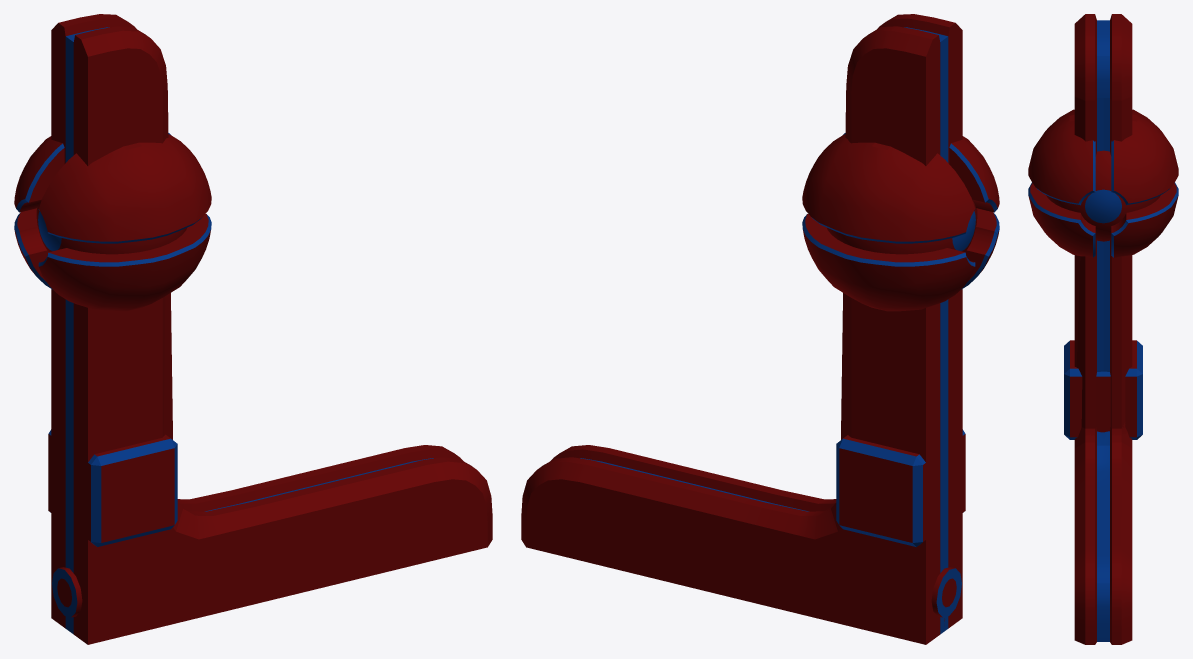
The model's file is LevelOrnaments.fbx.
The picture shows the model from 3 angles, left to right: view 1: azimuth 30°, elevation 25°; view 2: azimuth 150°, elevation 25°; view 3: azimuth 270°, elevation 25°; orthographic projection. The views are drawn at different scales.
Visible parts, largest first — view 1: L_Ornament, L_Ornament_Tall, Globe_Ornament, Box_Ornament, CornerOrnament; view 2: L_Ornament_Tall, L_Ornament, Globe_Ornament, Box_Ornament, CornerOrnament; view 3: L_Ornament_Tall, Globe_Ornament, L_Ornament, Box_Ornament.
Part boxes in pixels (box(x1,y1,x2,y2)): L_Ornament: box(51, 289, 492, 644); L_Ornament_Tall: box(51, 14, 492, 644); Globe_Ornament: box(14, 133, 211, 311); Box_Ornament: box(48, 429, 177, 546); CornerOrnament: box(52, 567, 82, 617); L_Ornament_Tall: box(521, 14, 962, 644); L_Ornament: box(521, 289, 962, 644); Globe_Ornament: box(802, 133, 999, 311); Box_Ornament: box(836, 429, 965, 546); CornerOrnament: box(931, 551, 961, 621); L_Ornament_Tall: box(1074, 14, 1132, 644); Globe_Ornament: box(1028, 109, 1178, 257); L_Ornament: box(1074, 255, 1132, 644); Box_Ornament: box(1064, 340, 1142, 439).
Bounding box in the file's own units: 519 × 662 × 191.
